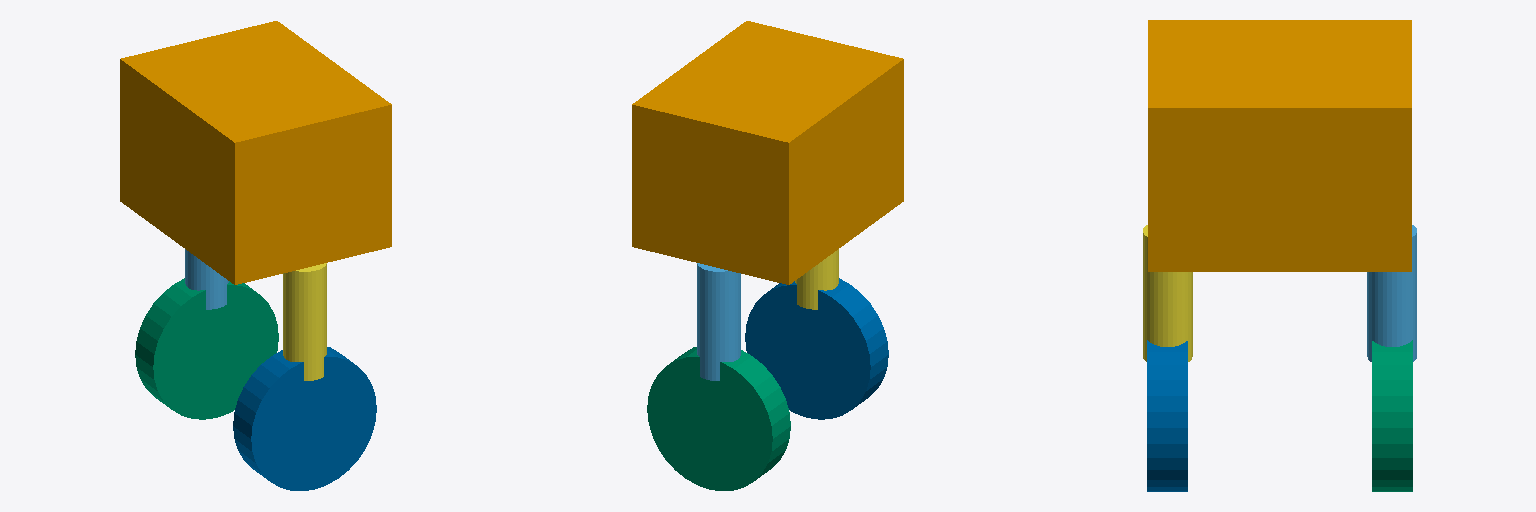
robot.urdf — wheeled_biped_simple:
<?xml version='1.0' encoding='utf-8'?>
<robot name="wheeled_biped_simple">
  <link name="base_link">
    <inertial>
      <origin xyz="0.00886818 -0.00154265 0.0261825" rpy="0 0 0" />
      <mass value="2.949467" />
      <inertia ixx="1.108558e-02" ixy="-3.429385e-04" ixz="1.511850e-03" iyy="9.755404e-03" iyz="4.677701e-04" izz="1.073981e-02" />
    </inertial>
    <visual>
      <origin xyz="0 0 0.0262" rpy="0 0 0" />
      <geometry>
        <box size="0.15 0.19 0.13" />
      </geometry>
    </visual>
    <collision>
      <origin xyz="0 0 0.0262" rpy="0 0 0" />
      <geometry>
        <box size="0.15 0.19 0.13" />
      </geometry>
    </collision>
  </link>
  <link name="l_carrier">
    <inertial>
      <origin xyz="-0.0611273 0 0" rpy="0 0 0" />
      <mass value="0.473474" />
      <inertia ixx="1.534847e-03" ixy="4.783431e-05" ixz="1.031795e-03" iyy="2.305984e-03" iyz="-6.370449e-05" izz="9.455158e-04" />
    </inertial>
    <visual>
      <origin xyz="0 0 0.0912" rpy="0 0 0" />
      <geometry>
        <cylinder radius="0.018" length="0.1" />
      </geometry>
    </visual>
    <collision>
      <origin xyz="0 0 0.0912" rpy="0 0 0" />
      <geometry>
        <cylinder radius="0.018" length="0.1" />
      </geometry>
    </collision>
  </link>
  <link name="l_wheel">
    <inertial>
      <origin xyz="0 0 0" rpy="0 0 0" />
      <mass value="0.066806" />
      <inertia ixx="9.503900e-05" ixy="0.000000e+00" ixz="0.000000e+00" iyy="1.817040e-04" iyz="0.000000e+00" izz="9.503900e-05" />
    </inertial>
    <visual>
      <origin xyz="0 0 0" rpy="1.5708 0 0" />
      <geometry>
        <cylinder radius="0.06" length="0.03" />
      </geometry>
    </visual>
    <collision>
      <origin xyz="0 0 0" rpy="1.5708 0 0" />
      <geometry>
        <cylinder radius="0.06" length="0.03" />
      </geometry>
    </collision>
  </link>
  <joint name="l_leg" type="prismatic">
    <parent link="base_link" />
    <child link="l_carrier" />
    <origin xyz="0 0.081 0" rpy="0 0 0" />
    <axis xyz="0 0 -1" />
    <limit lower="0.122479" upper="0.242455" effort="79.5" velocity="1.0" />
  </joint>
  <joint name="l_wheel_joint" type="continuous">
    <parent link="l_carrier" />
    <child link="l_wheel" />
    <origin xyz="0 0 0" rpy="0 0 0" />
    <axis xyz="0 1 0" />
    <limit effort="7.0" velocity="18.8" />
  </joint>
  <link name="r_carrier">
    <inertial>
      <origin xyz="-0.0611273 0 0" rpy="0 0 0" />
      <mass value="0.473474" />
      <inertia ixx="1.534847e-03" ixy="4.783431e-05" ixz="1.031795e-03" iyy="2.305984e-03" iyz="-6.370449e-05" izz="9.455158e-04" />
    </inertial>
    <visual>
      <origin xyz="0 0 0.0912" rpy="0 0 0" />
      <geometry>
        <cylinder radius="0.018" length="0.1" />
      </geometry>
    </visual>
    <collision>
      <origin xyz="0 0 0.0912" rpy="0 0 0" />
      <geometry>
        <cylinder radius="0.018" length="0.1" />
      </geometry>
    </collision>
  </link>
  <link name="r_wheel">
    <inertial>
      <origin xyz="0 0 0" rpy="0 0 0" />
      <mass value="0.066806" />
      <inertia ixx="9.503900e-05" ixy="0.000000e+00" ixz="0.000000e+00" iyy="1.817040e-04" iyz="0.000000e+00" izz="9.503900e-05" />
    </inertial>
    <visual>
      <origin xyz="0 0 0" rpy="1.5708 0 0" />
      <geometry>
        <cylinder radius="0.06" length="0.03" />
      </geometry>
    </visual>
    <collision>
      <origin xyz="0 0 0" rpy="1.5708 0 0" />
      <geometry>
        <cylinder radius="0.06" length="0.03" />
      </geometry>
    </collision>
  </link>
  <joint name="r_leg" type="prismatic">
    <parent link="base_link" />
    <child link="r_carrier" />
    <origin xyz="0 -0.081 0" rpy="0 0 0" />
    <axis xyz="0 0 -1" />
    <limit lower="0.122479" upper="0.242455" effort="79.5" velocity="1.0" />
  </joint>
  <joint name="r_wheel_joint" type="continuous">
    <parent link="r_carrier" />
    <child link="r_wheel" />
    <origin xyz="0 0 0" rpy="0 0 0" />
    <axis xyz="0 1 0" />
    <limit effort="7.0" velocity="18.8" />
  </joint>
  <link name="imu_link" />
  <joint name="imu_link_joint" type="fixed">
    <parent link="base_link" />
    <child link="imu_link" />
    <origin xyz="0.0499964 -0.005 0.0699994" rpy="-0 -0 -0" />
  </joint>
  <link name="gps_link" />
  <joint name="gps_link_joint" type="fixed">
    <parent link="base_link" />
    <child link="gps_link" />
    <origin xyz="0.0503105 -0.004766 0.0863994" rpy="0 -0 -0" />
  </joint>
  <link name="laser" />
  <joint name="laser_joint" type="fixed">
    <parent link="base_link" />
    <child link="laser" />
    <origin xyz="-0.0774261 0 0.122499" rpy="-0 -0 -3.14159" />
  </joint>
  <link name="camera_link" />
  <joint name="camera_link_joint" type="fixed">
    <parent link="base_link" />
    <child link="camera_link" />
    <origin xyz="0.107996 0 0.0152593" rpy="0 0 -0" />
  </joint>
</robot>

--- Render facts (derived) ---
The picture shows the robot from 3 angles, left to right: view 1: azimuth 30°, elevation 25°; view 2: azimuth 150°, elevation 25°; view 3: azimuth 270°, elevation 25°; orthographic projection.
Robot: wheeled_biped_simple — 9 links, 8 joints (2 continuous, 2 prismatic, 4 fixed); root link base_link; default pose: joints at zero except 2 at the middle of their limits (l_leg = 0.1825, r_leg = 0.1825).
Links seen in each view (by area): view 1: base_link, r_wheel, l_wheel, r_carrier, l_carrier; view 2: base_link, l_wheel, r_wheel, l_carrier, r_carrier; view 3: base_link, l_wheel, r_wheel, l_carrier, r_carrier.
Link boxes in pixels (x1,y1,x2,y2): base_link: (120, 21, 391, 284); r_wheel: (233, 347, 376, 490); l_wheel: (135, 278, 278, 419); r_carrier: (283, 263, 326, 380); l_carrier: (185, 249, 228, 309); base_link: (632, 21, 903, 284); l_wheel: (647, 347, 790, 490); r_wheel: (745, 278, 888, 419); l_carrier: (697, 263, 740, 380); r_carrier: (795, 249, 838, 309); base_link: (1148, 20, 1411, 271); l_wheel: (1372, 340, 1412, 491); r_wheel: (1147, 340, 1187, 491); l_carrier: (1367, 225, 1416, 361); r_carrier: (1143, 225, 1192, 361).
Bounding box of the posed robot: 0.15 × 0.198 × 0.3337 m (x, y, z).
Geometry: primitives only (box / cylinder / sphere), no mesh files.
